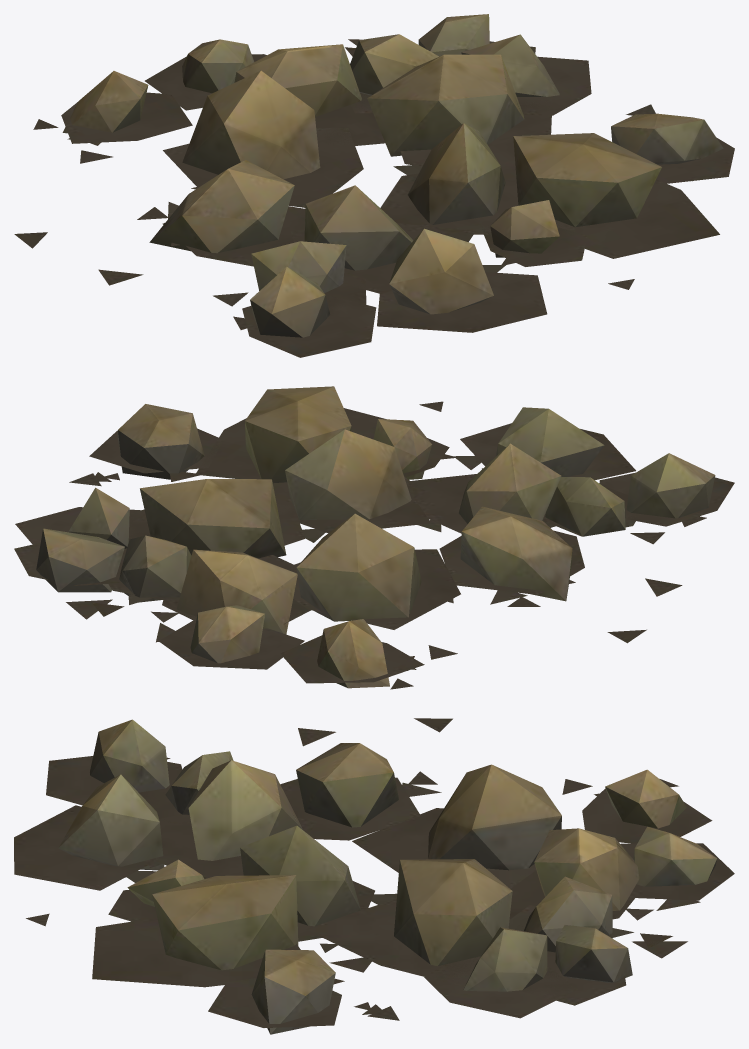
The model's file is stone-rich.glb.
The picture shows the model from 3 angles, top to bottom: view 1: azimuth 30°, elevation 25°; view 2: azimuth 150°, elevation 25°; view 3: azimuth 270°, elevation 25°; orthographic projection. The views are drawn at different scales.
Visible parts, largest first — view 1: stone-rich; view 2: stone-rich; view 3: stone-rich.
Part boxes in pixels (left/top/right/bottom): stone-rich: left=14, top=14, right=734, bottom=357; stone-rich: left=14, top=386, right=734, bottom=689; stone-rich: left=14, top=718, right=734, bottom=1034.
Bounding box in the file's own units: 1.53 × 0.2326 × 1.5.
Materials: 1 (1 with a texture image).
